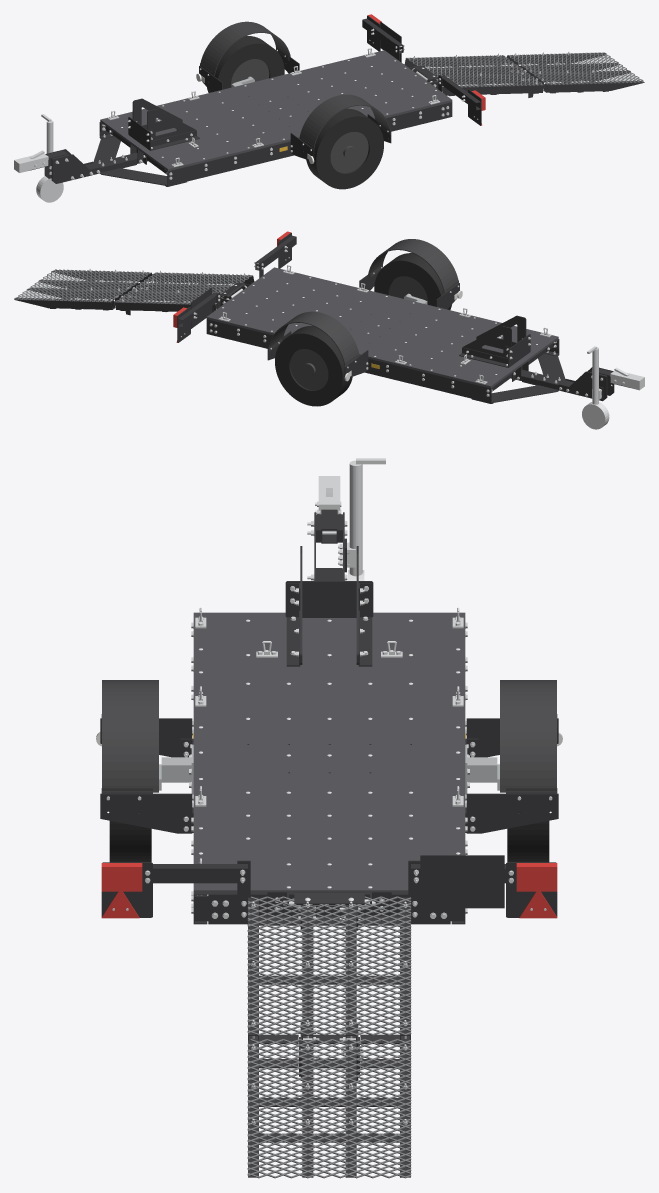
File: przyczepa_v6_zaladunek.glb
3 renders of one model, top to bottom at view 1: azimuth 30°, elevation 25°; view 2: azimuth 150°, elevation 25°; view 3: azimuth 270°, elevation 25°, orthographic. The views are drawn at different scales.
Visible parts, largest first — view 1: P1#1, KUPNE_opony, KUPNE_blotniki, TRAP_zal_SIATKA#2, R2-P#1, TRAP_zal_SIATKA#1, KUPNE_felgi, G1#1, N1-P#1, TRAP_zal_T1-Z-2#21, KUPNE_kolko, TRAP_zal_T1-Z-1#11 (+17 smaller); view 2: P1#1, KUPNE_opony, KUPNE_blotniki, TRAP_zal_SIATKA#2, R2-L#1, TRAP_zal_SIATKA#1, KUPNE_felgi, G1#1, KUPNE_kolko, TRAP_zal_T1-Z-2#22, TRAP_zal_T1-Z-1#12, TRAP_zal_T1-Z-1#11 (+17 smaller); view 3: P1#1, TRAP_zal_SIATKA#2, TRAP_zal_SIATKA#1, KUPNE_blotniki, KUPNE_belka, KUPNE_lampy, KUPNE_opony, B1#2, B1#4, KL2#1, R3#1, KUPNE_kolko (+6 smaller).
Boxes of the visible parts, left/top/right/bottom form: P1#1: left=100, top=50, right=452, bottom=171; KUPNE_opony: left=207, top=36, right=383, bottom=189; KUPNE_blotniki: left=200, top=21, right=390, bottom=149; TRAP_zal_SIATKA#2: left=507, top=52, right=644, bottom=85; R2-P#1: left=164, top=102, right=452, bottom=186; TRAP_zal_SIATKA#1: left=406, top=55, right=542, bottom=87; KUPNE_felgi: left=231, top=59, right=368, bottom=173; G1#1: left=93, top=136, right=186, bottom=186; N1-P#1: left=51, top=154, right=100, bottom=183; TRAP_zal_T1-Z-2#21: left=543, top=80, right=644, bottom=92; KUPNE_kolko: left=36, top=114, right=63, bottom=202; TRAP_zal_T1-Z-1#11: left=442, top=83, right=544, bottom=95; P1#1: left=206, top=267, right=558, bottom=388; KUPNE_opony: left=275, top=253, right=451, bottom=406; KUPNE_blotniki: left=268, top=239, right=458, bottom=366; TRAP_zal_SIATKA#2: left=14, top=269, right=150, bottom=302; R2-L#1: left=206, top=319, right=494, bottom=403; TRAP_zal_SIATKA#1: left=115, top=272, right=252, bottom=304; KUPNE_felgi: left=290, top=276, right=427, bottom=390; G1#1: left=472, top=353, right=565, bottom=403; KUPNE_kolko: left=582, top=346, right=609, bottom=429; TRAP_zal_T1-Z-2#22: left=14, top=298, right=115, bottom=309; TRAP_zal_T1-Z-1#12: left=114, top=300, right=216, bottom=312; TRAP_zal_T1-Z-1#11: left=153, top=272, right=254, bottom=284; P1#1: left=193, top=612, right=465, bottom=894; TRAP_zal_SIATKA#2: left=247, top=1039, right=411, bottom=1178; TRAP_zal_SIATKA#1: left=247, top=896, right=411, bottom=1035; KUPNE_blotniki: left=101, top=680, right=557, bottom=793; KUPNE_belka: left=420, top=855, right=504, bottom=908; KUPNE_lampy: left=101, top=863, right=557, bottom=918; KUPNE_opony: left=109, top=811, right=549, bottom=862; B1#2: left=100, top=793, right=192, bottom=833; B1#4: left=466, top=793, right=558, bottom=833; KL2#1: left=285, top=581, right=373, bottom=617; R3#1: left=208, top=894, right=450, bottom=924; KUPNE_kolko: left=347, top=458, right=385, bottom=580.
Bounding box in the file's own units: 5.18 × 0.6861 × 1.72.
